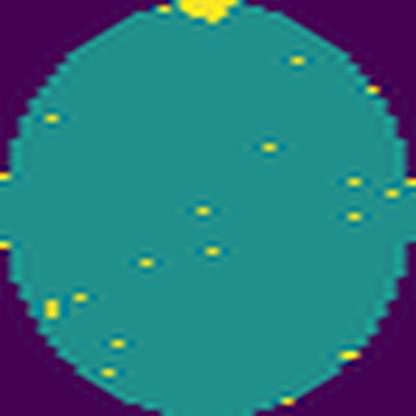Edge-Loc: (168, 0, 242, 29)
